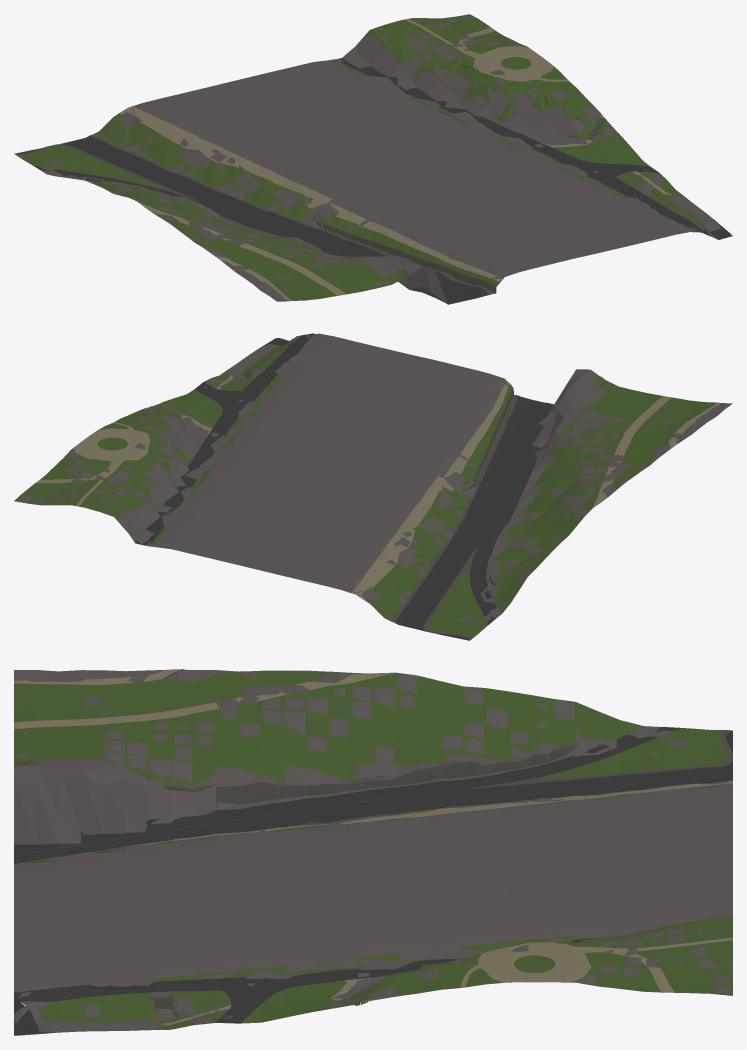
The picture shows the model from 3 angles, top to bottom: view 1: azimuth 30°, elevation 25°; view 2: azimuth 150°, elevation 25°; view 3: azimuth 270°, elevation 25°; orthographic projection. The views are drawn at different scales.
Parts seen in each view (by area): view 1: c_m08_m17; view 2: c_m08_m17; view 3: c_m08_m17.
Part boxes in pixels (bbox=[...]): c_m08_m17: bbox=[14, 14, 732, 304]; c_m08_m17: bbox=[14, 333, 732, 640]; c_m08_m17: bbox=[14, 669, 732, 1035].
Size of the model in its own units: 128 by 12.54 by 128.
